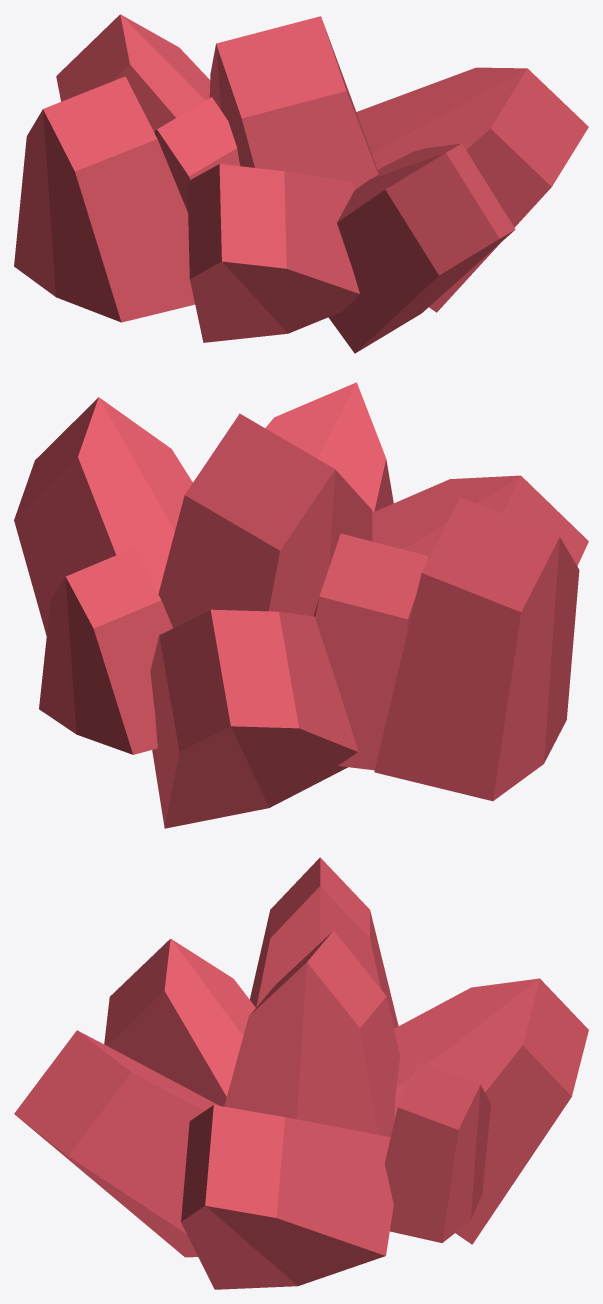
The model's file is RockType3 04.fbx.
The picture shows the model from 3 angles, top to bottom: view 1: azimuth 30°, elevation 25°; view 2: azimuth 150°, elevation 25°; view 3: azimuth 270°, elevation 25°; orthographic projection. The views are drawn at different scales.
Visible parts, largest first — view 1: Rock Type3 04 mesh; view 2: Rock Type3 04 mesh; view 3: Rock Type3 04 mesh.
Part boxes in pixels (bbox=[...]): Rock Type3 04 mesh: bbox=[14, 14, 588, 353]; Rock Type3 04 mesh: bbox=[14, 382, 588, 828]; Rock Type3 04 mesh: bbox=[14, 857, 588, 1289].
Bounding box in the file's own units: 129 × 70.66 × 126.
